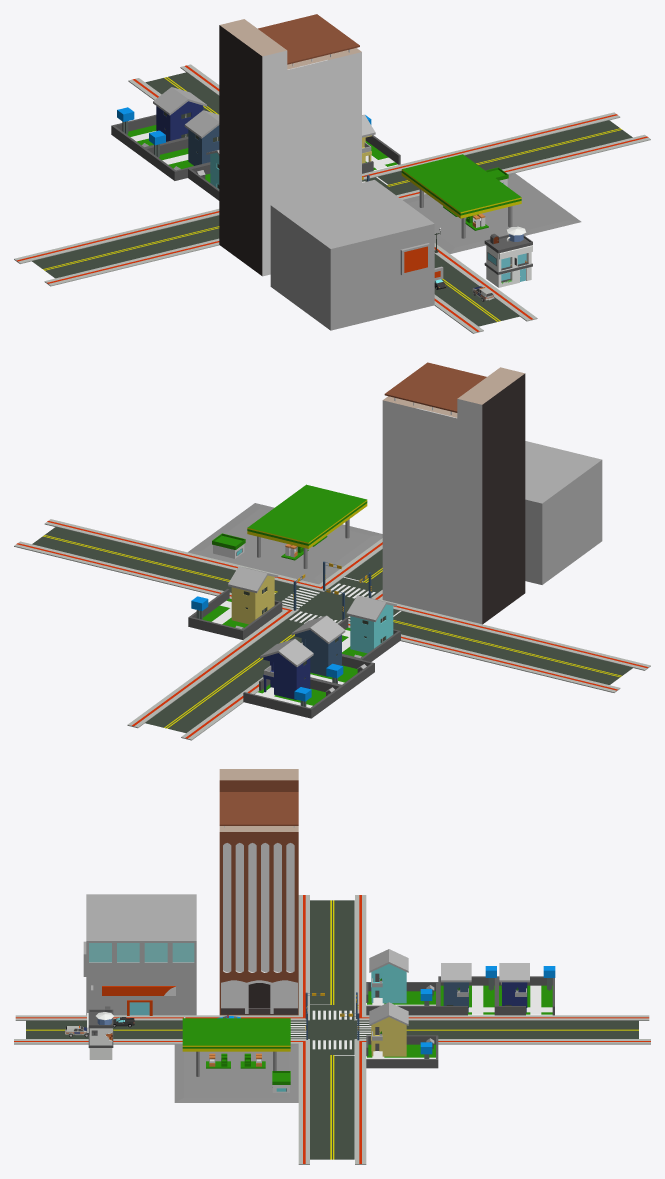
The model's file is hospital.fbx.
3 renders of one model, top to bottom at view 1: azimuth 30°, elevation 25°; view 2: azimuth 150°, elevation 25°; view 3: azimuth 270°, elevation 25°, orthographic. The views are drawn at different scales.
Visible parts, largest first — view 1: Predio, Banco, PostoCombustivel, Asfalto.001, Asfalto.003, Cube.005, Cube.004, Casa, Asfalto, Calçada.011, Calçada.012, Calçada.003 (+6 smaller); view 2: Predio, PostoCombustivel, Banco, Asfalto.001, Asfalto.003, Asfalto.002, Cube.005, Cube.006, Cube.004, Cube.007, Calçada.003, Calçada.007 (+7 smaller); view 3: Predio, Banco, PostoCombustivel, Asfalto.003, Asfalto.001, Asfalto.002, Cube.006, Cube.007, Cube.005, Cube.004, Asfalto, Calçada.008 (+9 smaller).
Boxes of the visible parts, x1,y1,x2,y2 form: Predio: (219, 14, 361, 276); Banco: (270, 180, 443, 330); PostoCombustivel: (401, 154, 581, 253); Asfalto.001: (32, 215, 219, 278); Asfalto.003: (366, 120, 632, 195); Cube.005: (111, 87, 206, 157); Cube.004: (143, 110, 219, 180); Casa: (484, 226, 532, 287); Asfalto: (434, 254, 519, 326); Calçada.011: (362, 112, 620, 180); Calçada.012: (14, 209, 219, 263); Calçada.003: (44, 238, 219, 286); Predio: (382, 362, 525, 624); PostoCombustivel: (188, 484, 382, 584); Banco: (525, 441, 602, 584); Asfalto.001: (393, 609, 632, 684); Asfalto.003: (32, 527, 299, 601); Asfalto.002: (145, 620, 302, 732); Cube.005: (243, 639, 342, 718); Cube.006: (188, 566, 282, 639); Cube.004: (291, 615, 374, 695); Cube.007: (338, 595, 400, 661); Calçada.003: (382, 600, 650, 670); Calçada.007: (127, 611, 292, 728); Predio: (219, 769, 298, 1015); Banco: (83, 894, 196, 1015); PostoCombustivel: (174, 1018, 298, 1102); Asfalto.003: (310, 1050, 354, 1159); Asfalto.001: (310, 900, 354, 1009); Asfalto.002: (406, 1020, 638, 1038); Cube.006: (366, 1002, 438, 1068); Cube.007: (366, 949, 438, 1015); Cube.005: (496, 963, 555, 1015); Cube.004: (438, 963, 496, 1015); Asfalto: (26, 1020, 182, 1038); Calçada.008: (366, 1015, 649, 1020).
Size of the model in its own units: 10959 by 3860 by 10961.
